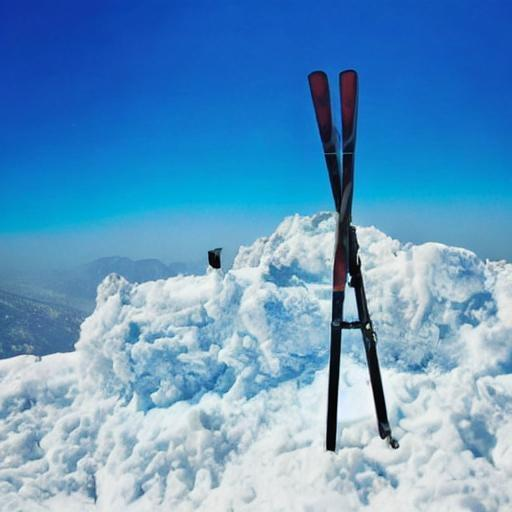Skis: (293, 60, 401, 448)
